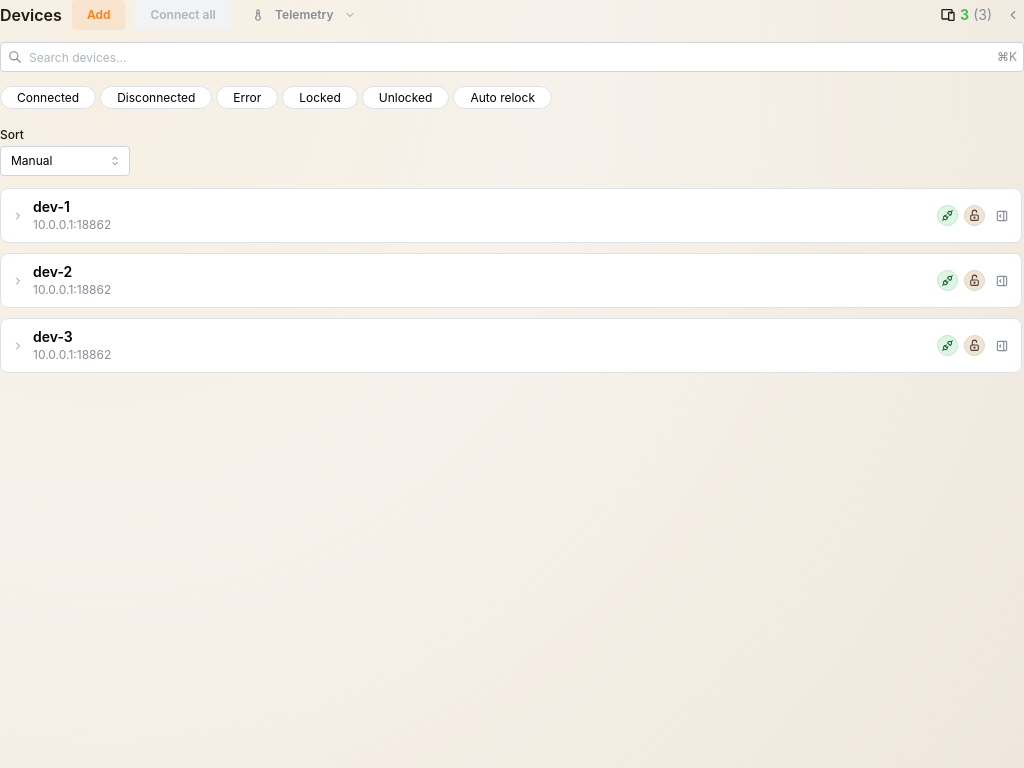
DeviceList fleet telemetry menu › asks before reinstalling on every board
Click the button titled "Red Pitaya telemetry actions for every device" at (303, 15), box [241, 0, 366, 30]
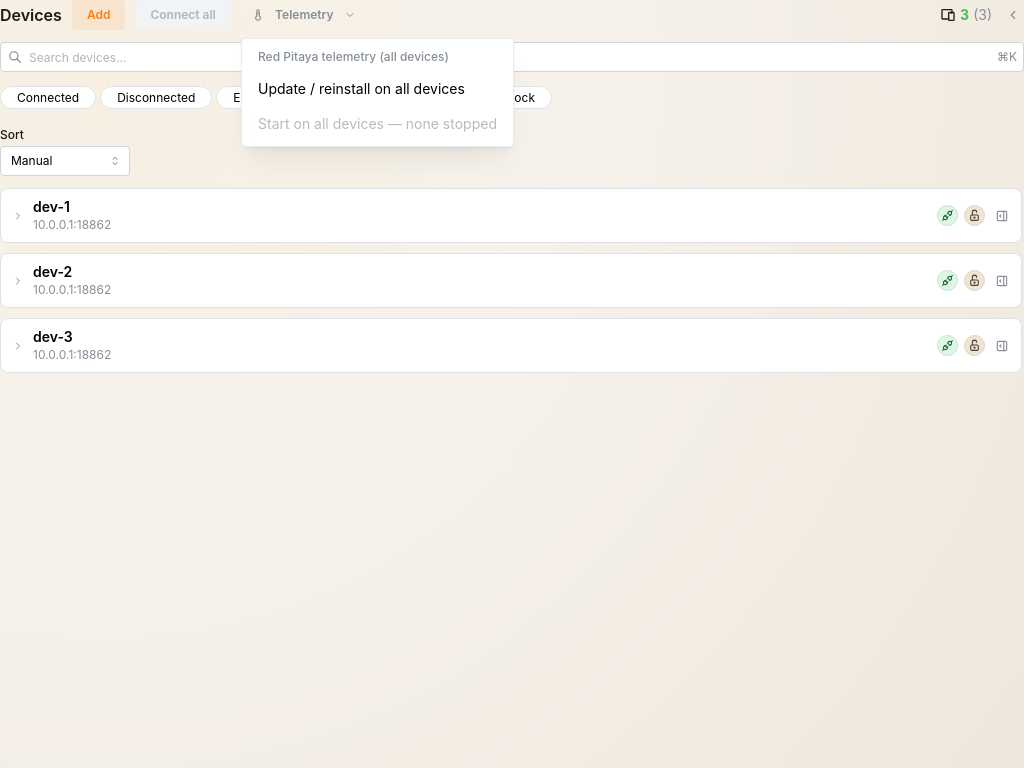
Click the menu item "Update / reinstall on all devices" at (377, 89), box [246, 72, 509, 107]
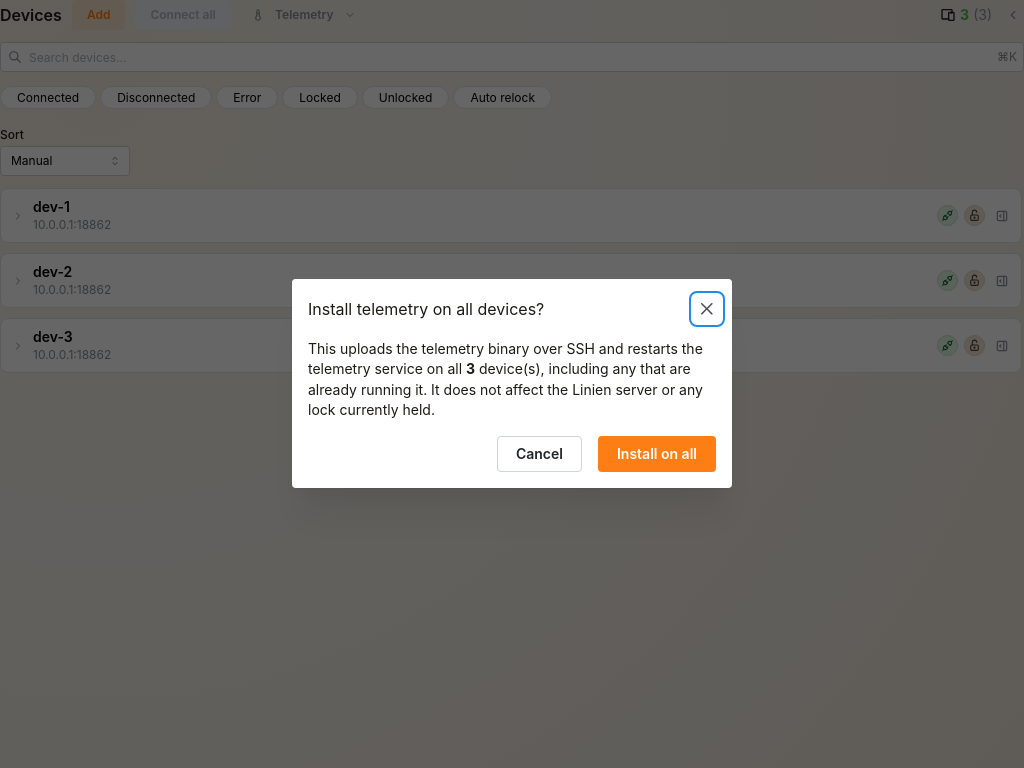
Now the heading "Install telemetry on all devices?" is shown, box [308, 301, 544, 317]
